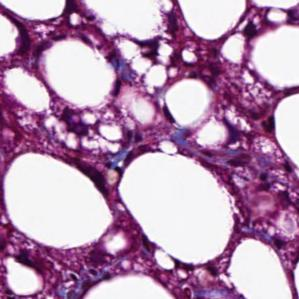inflammation: (60, 105, 101, 141)
